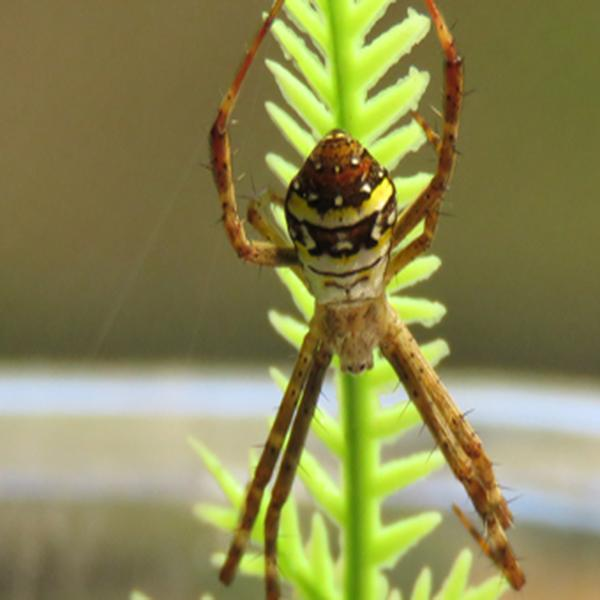St Andrew's Cross Spider: (209, 3, 524, 600)
